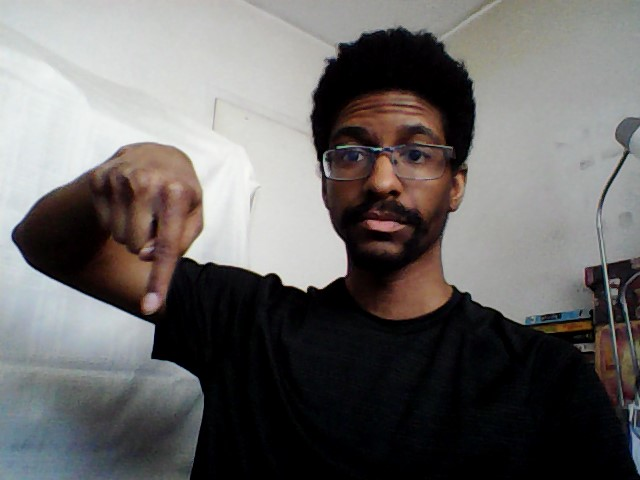q: (85, 136, 210, 322)
